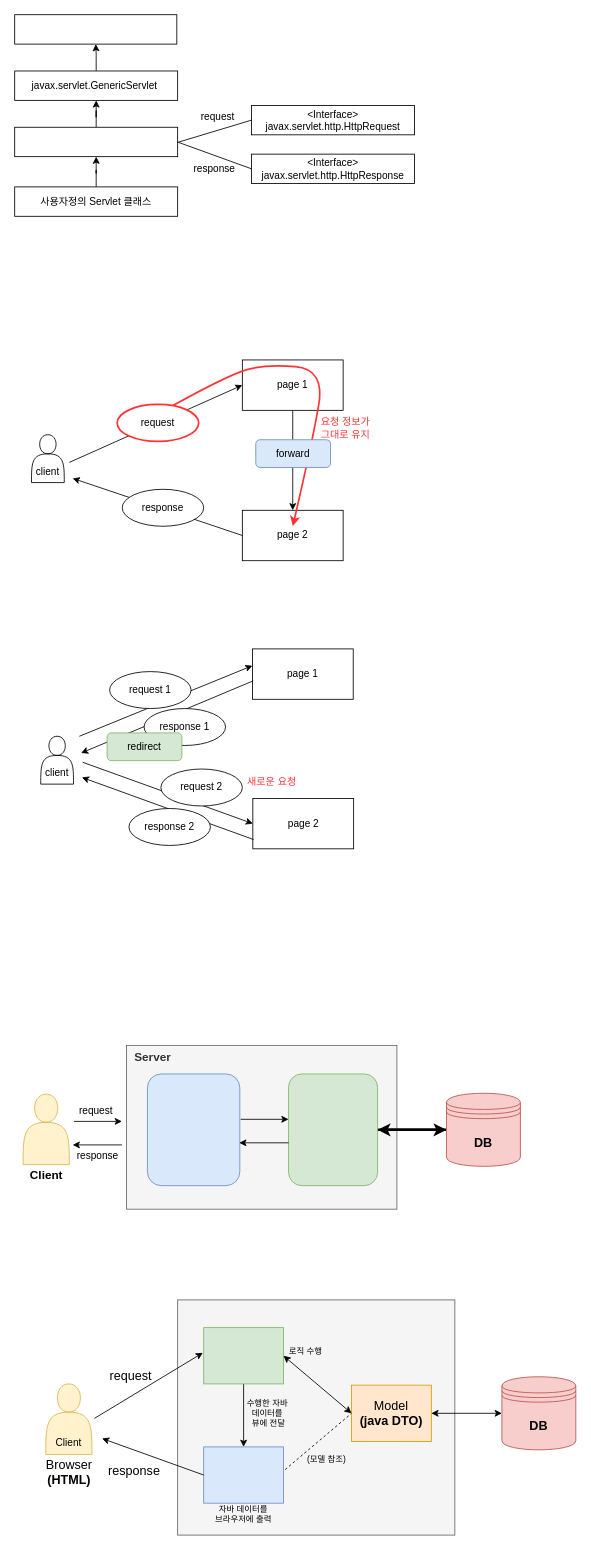
Image size: 591x1550. Some labels were removed from this diagram. Each missing label, with the centre of its shape:
"<Interface> javax.servlet.Servlet" goes at [95,29].
"Controller (Servlet)" goes at [243,1355].
"javax.servlet.http.HttpServlet" goes at [96,141].
"View (.jsp)" goes at [243,1474].
"WAS (= Web Container) 동적 컨텐츠 제공" goes at [333,1129].
"Web Server 정적 컨텐츠 제공" goes at [193,1129].
